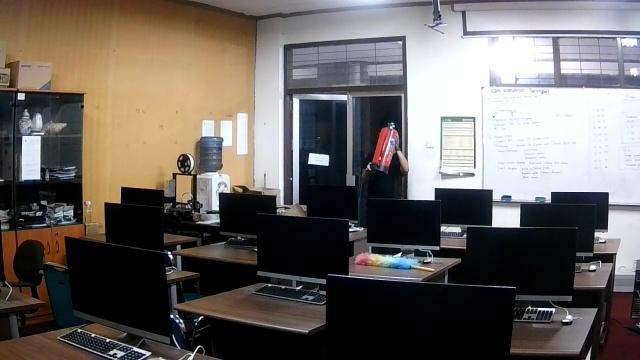AIO PC-Monitor-TV: (65, 235, 172, 345), (465, 226, 576, 302), (254, 212, 351, 285), (366, 196, 441, 259)
APAR: (369, 120, 398, 175)
Dispenser: (195, 136, 229, 213)
Whiteboard: (478, 84, 639, 206)
